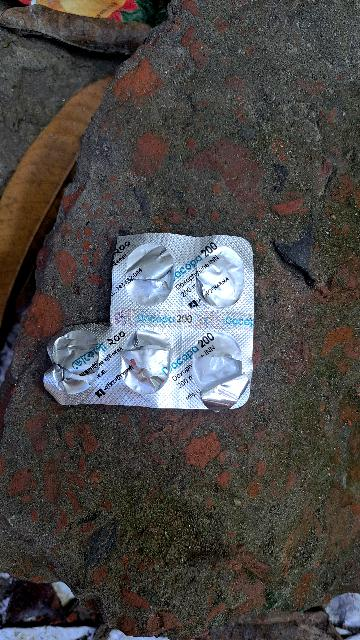medicine: (45, 229, 262, 413)
